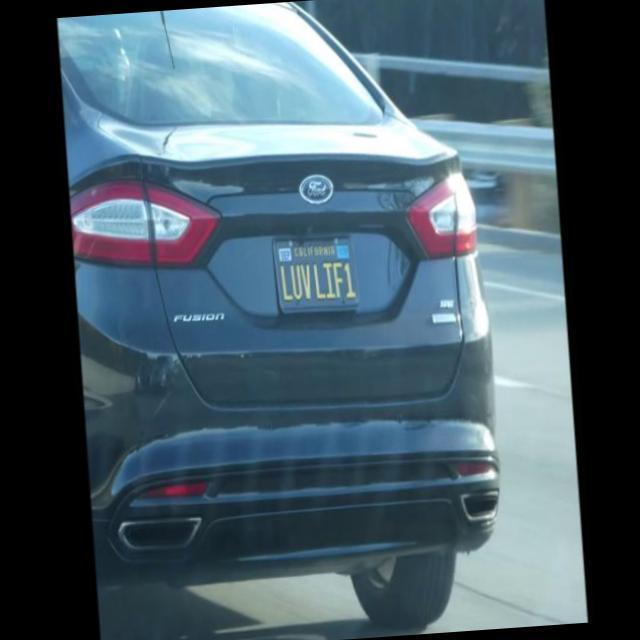License Plate: (272, 226, 361, 310)
